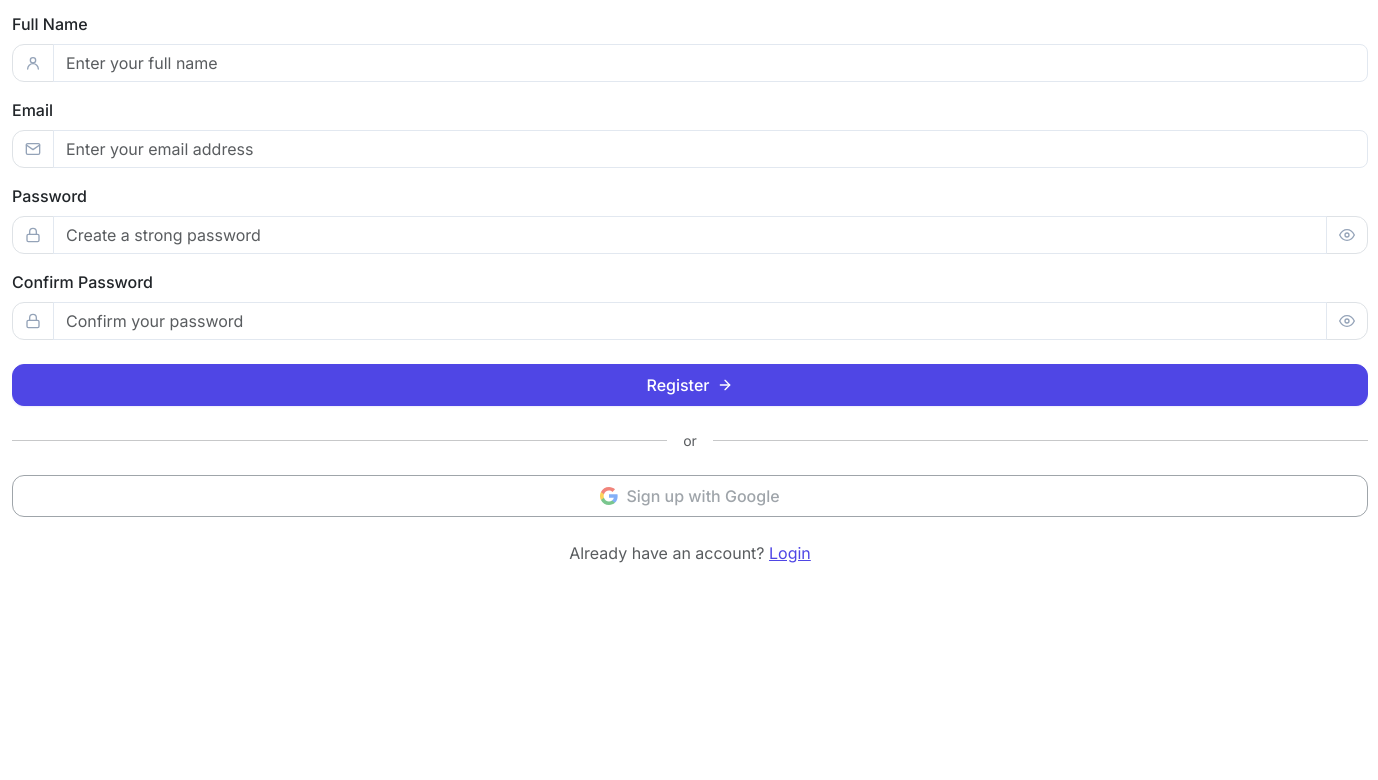
Test case: RegisterForm › shows a confirm-password error when the passwords do not match
In the field labelled "Full Name": {"x": 710, "y": 63} x1=53 y1=44 x2=1368 y2=82, type "Jane Doe"
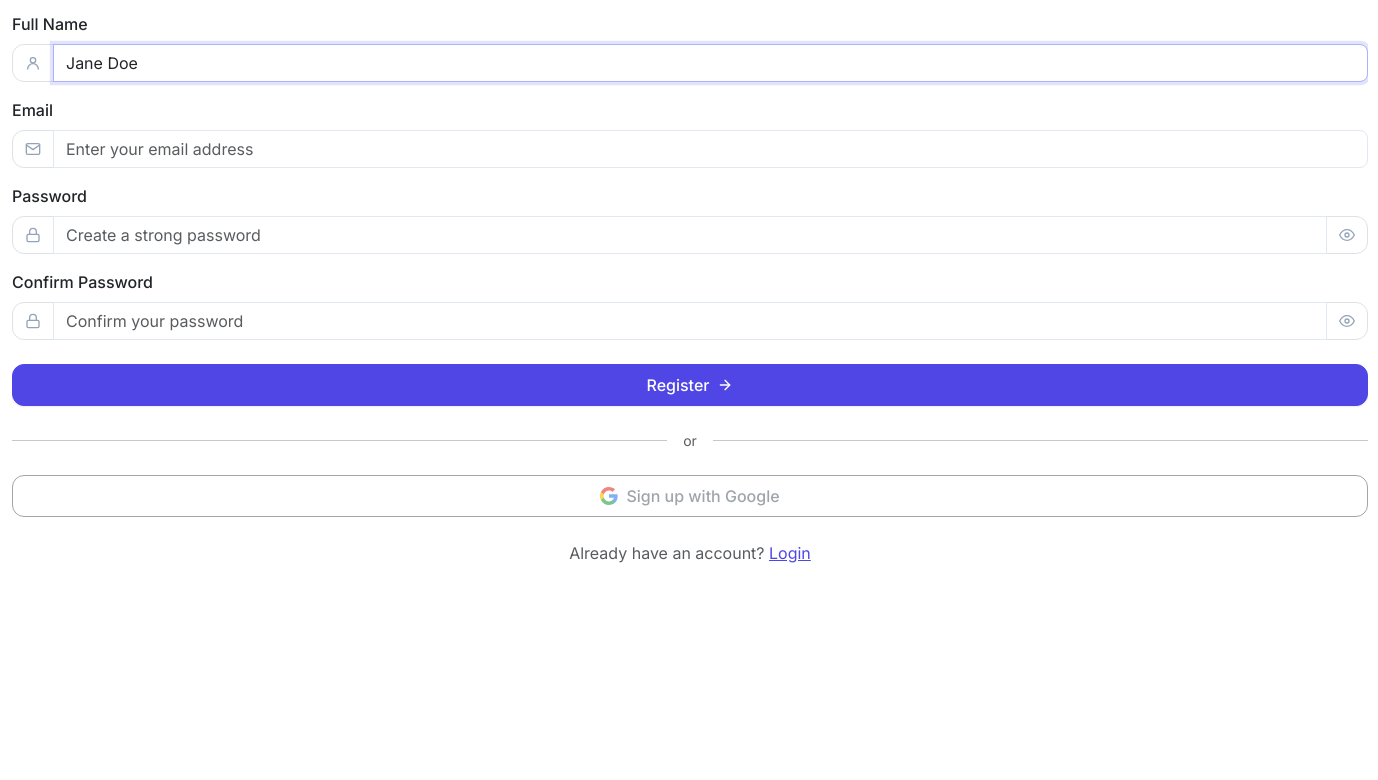
In the field labelled "Email": {"x": 710, "y": 149} x1=53 y1=130 x2=1368 y2=168, type "jane@example.com"
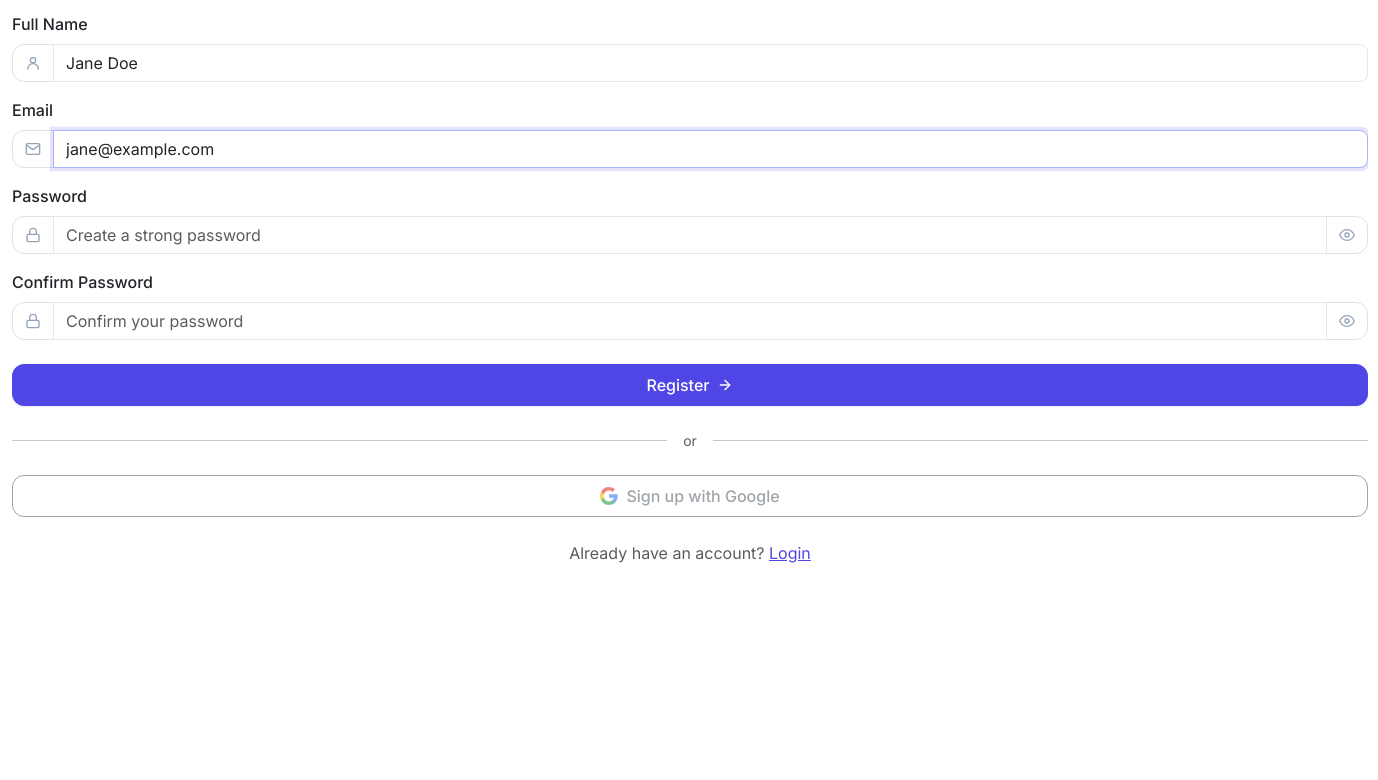
In the password field labelled "Password": {"x": 690, "y": 235} x1=53 y1=216 x2=1327 y2=254, type "Passw0rd"
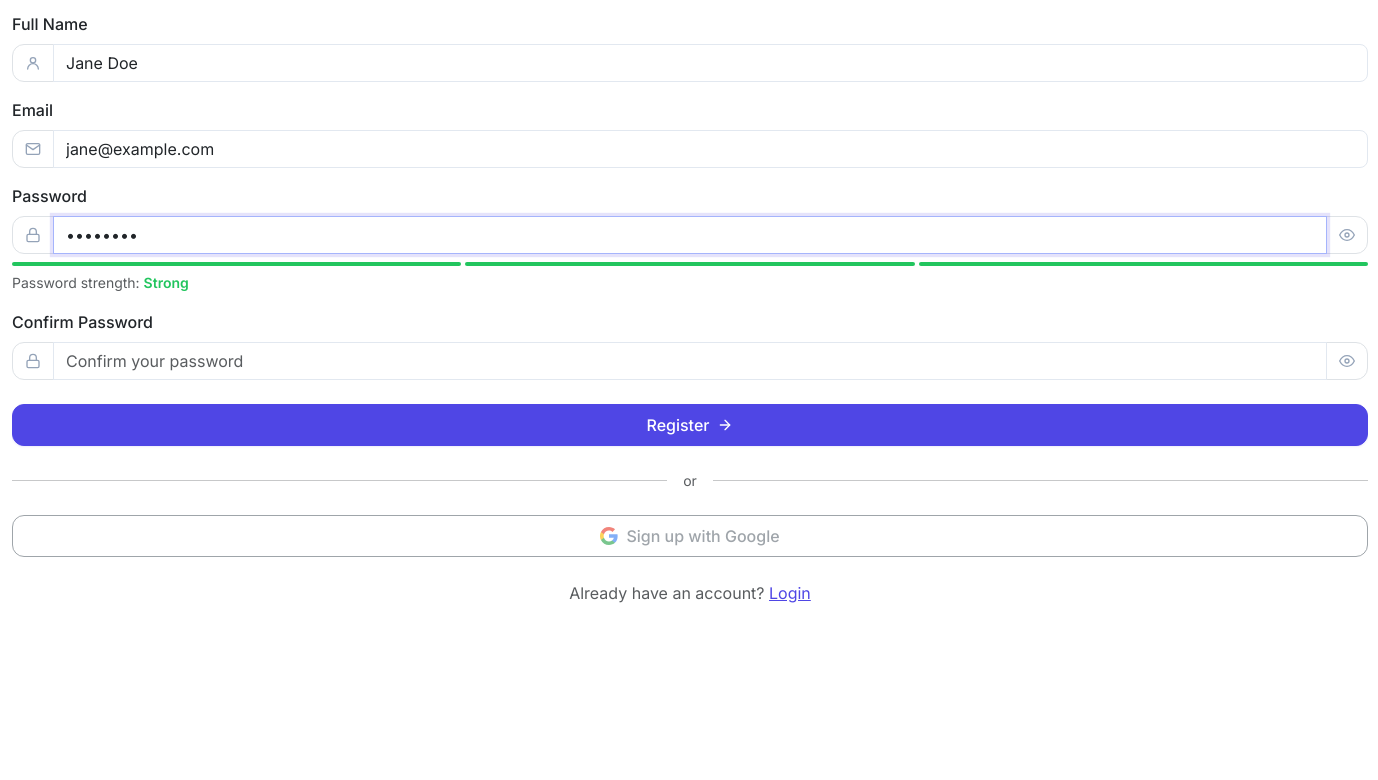
In the password field labelled "Confirm Password": {"x": 690, "y": 361} x1=53 y1=342 x2=1327 y2=380, type "Different1"
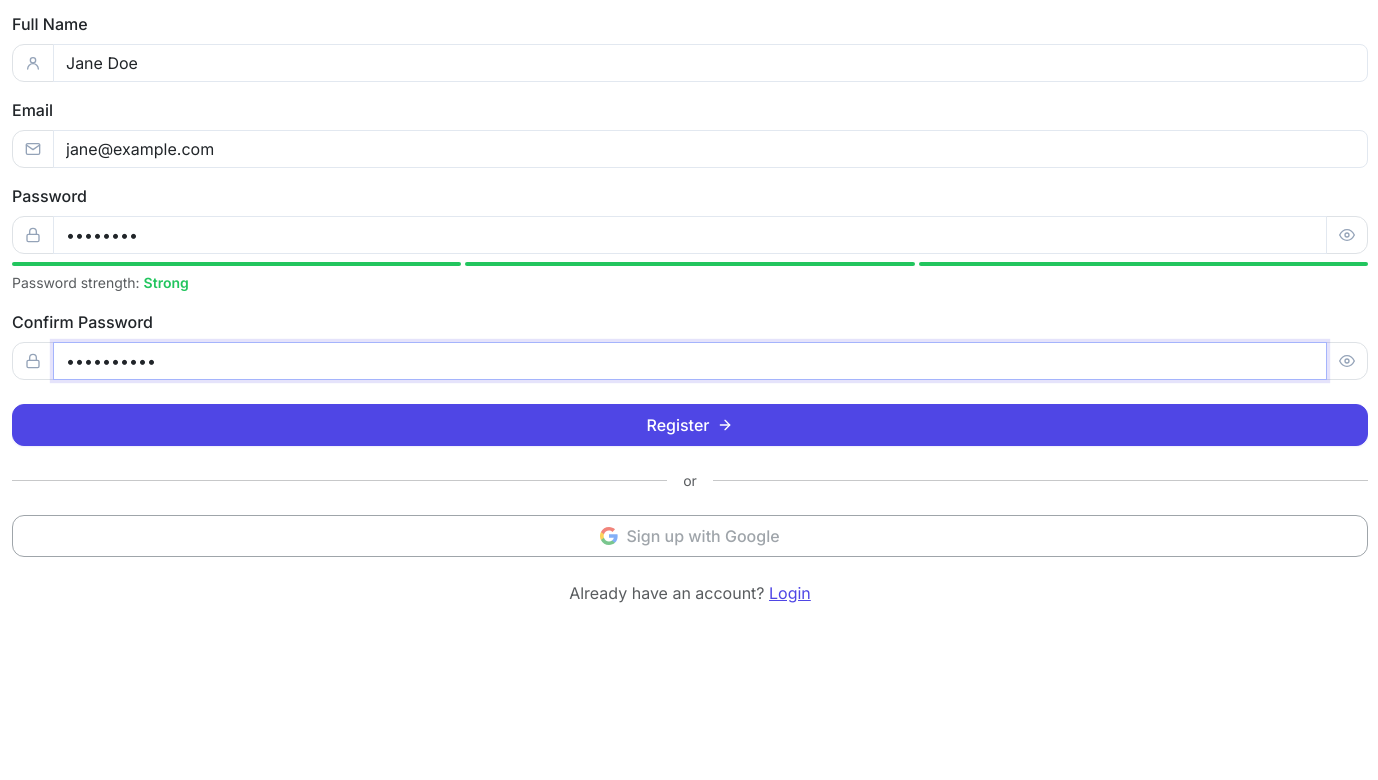
Click the button "Register": {"x": 690, "y": 425} x1=12 y1=404 x2=1368 y2=446
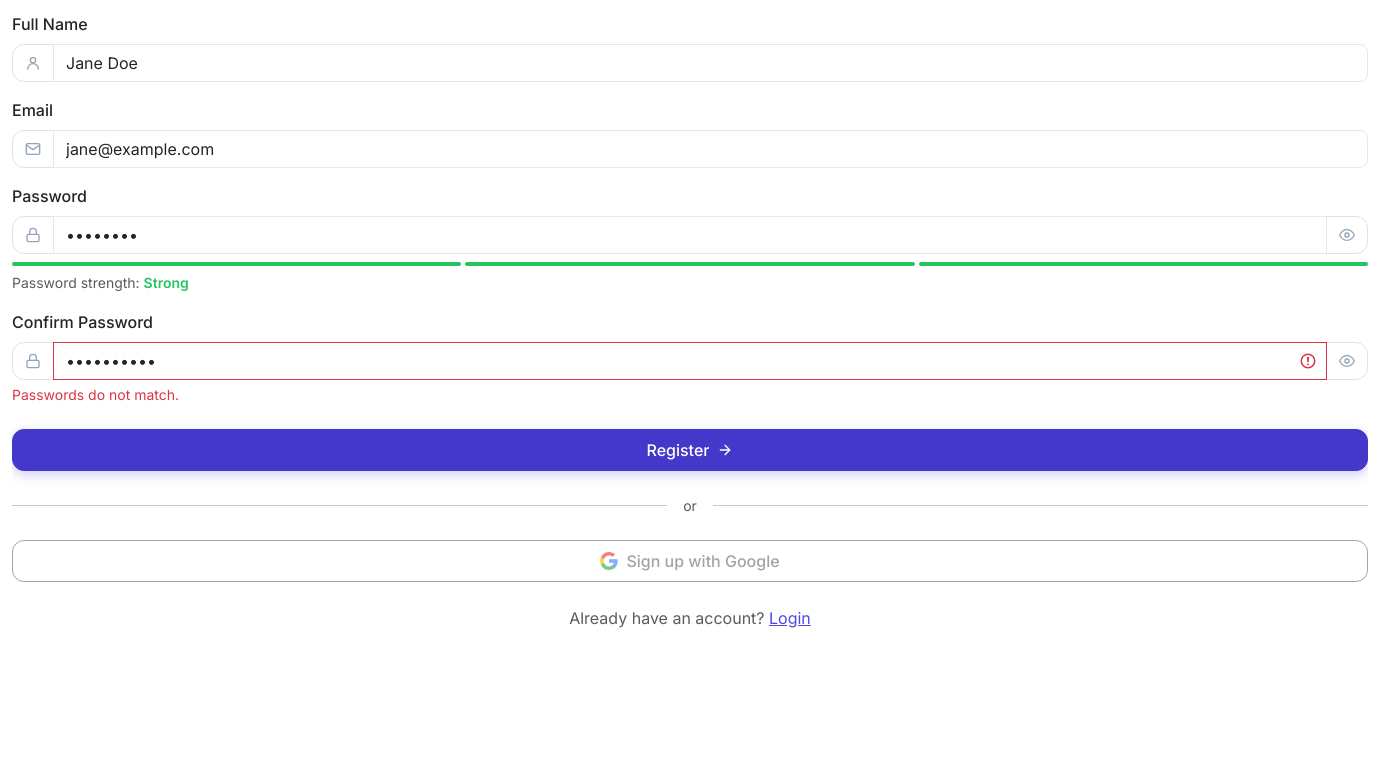
Now the text "Passwords do not match." is shown, box x1=12 y1=386 x2=179 y2=403
